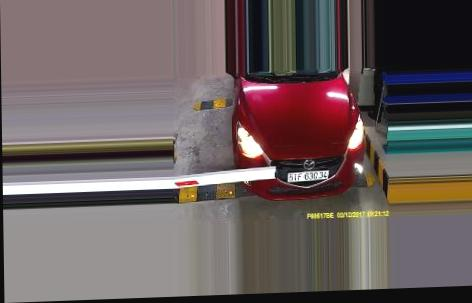License_Plate: (284, 170, 331, 185)
